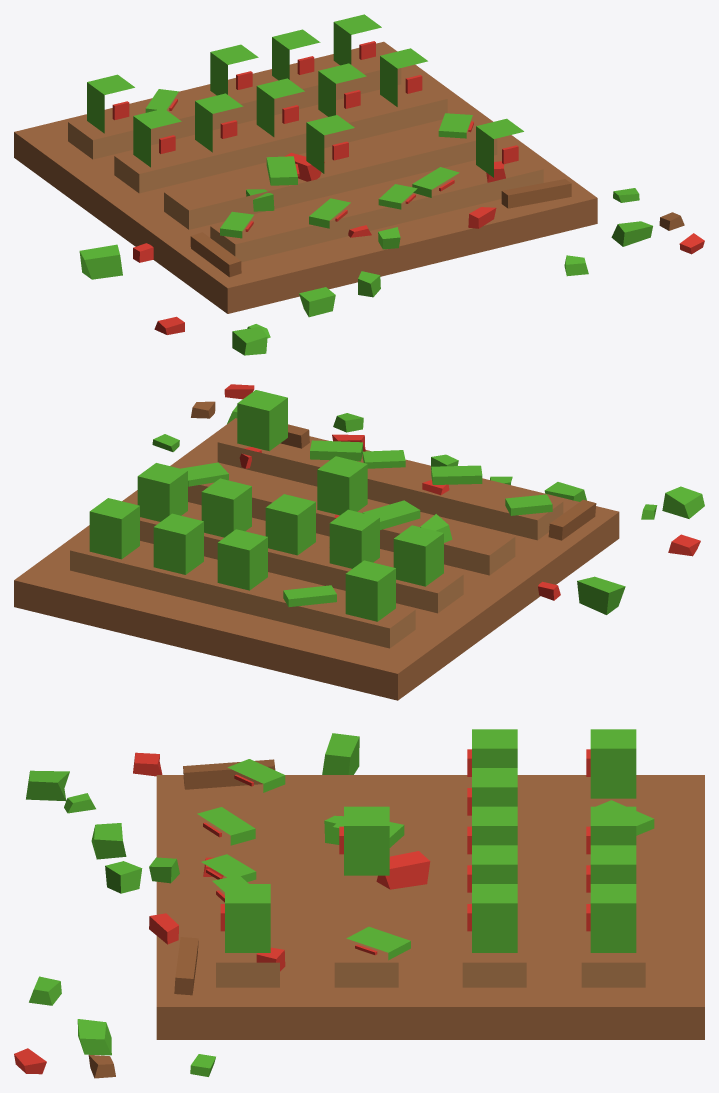
Rendered from field_t1_v4_dmg1.glb.
3 renders of one model, top to bottom at view 1: azimuth 30°, elevation 25°; view 2: azimuth 150°, elevation 25°; view 3: azimuth 270°, elevation 25°, orthographic. The views are drawn at different scales.
Parts seen in each view (by area): view 1: field_t1_v4_dmg1; view 2: field_t1_v4_dmg1; view 3: field_t1_v4_dmg1.
Boxes of the visible parts, x1=… form: field_t1_v4_dmg1: x1=14, y1=14, x2=704, y2=355; field_t1_v4_dmg1: x1=14, y1=384, x2=704, y2=700; field_t1_v4_dmg1: x1=14, y1=729, x2=704, y2=1078.
Bounding box in the file's own units: 0.823 × 0.13 × 0.756.
1 material, 1 textured.
